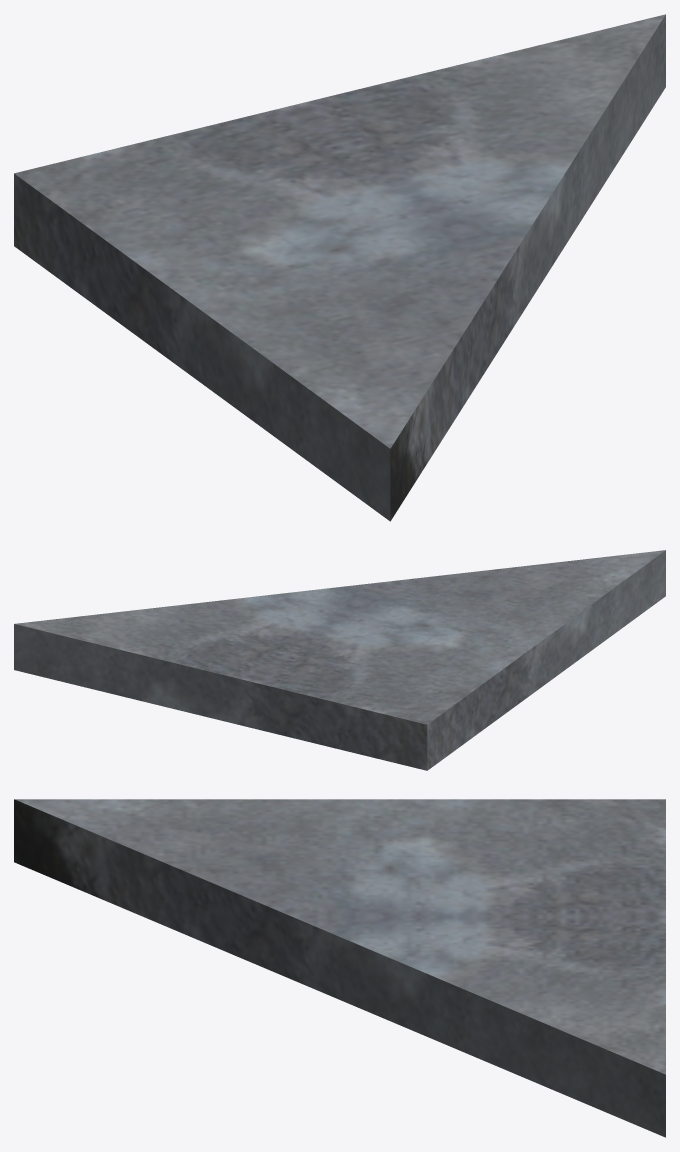
Rendered from Urban_RoadSideCorner_Model.fbx.
3 renders of one model, top to bottom at view 1: azimuth 30°, elevation 25°; view 2: azimuth 150°, elevation 25°; view 3: azimuth 270°, elevation 25°, orthographic. The views are drawn at different scales.
Visible parts, largest first — view 1: Urban_RoadSideCorner_Mesh; view 2: Urban_RoadSideCorner_Mesh; view 3: Urban_RoadSideCorner_Mesh.
Boxes of the visible parts, x1,y1,x2,y2 form: Urban_RoadSideCorner_Mesh: [14, 14, 665, 521]; Urban_RoadSideCorner_Mesh: [14, 550, 665, 770]; Urban_RoadSideCorner_Mesh: [14, 799, 665, 1137].
Size of the model in its own units: 3 by 0.32 by 3.
